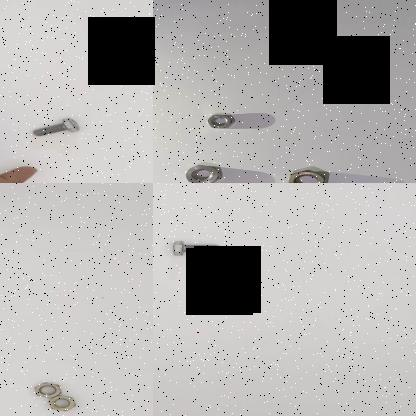Bolts: (30, 114, 82, 136), (170, 236, 224, 257)
NUTS: (181, 160, 225, 183), (284, 167, 330, 183), (32, 378, 62, 399), (45, 393, 78, 412), (204, 110, 235, 130)
